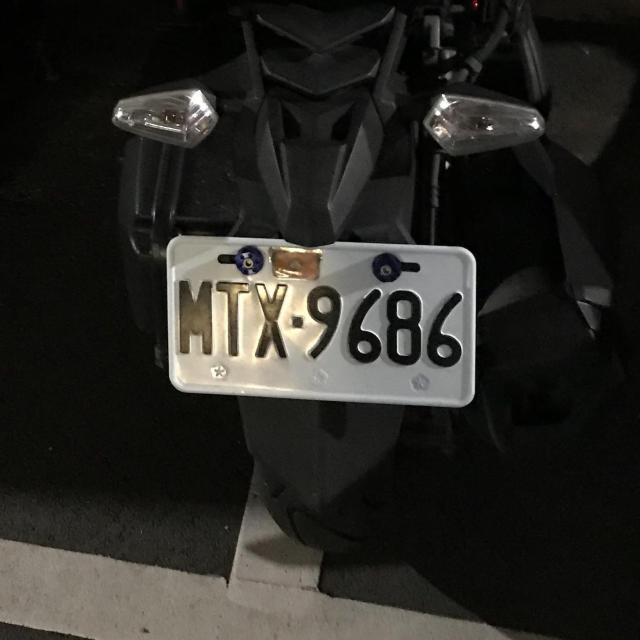W: (156, 231, 482, 413)
